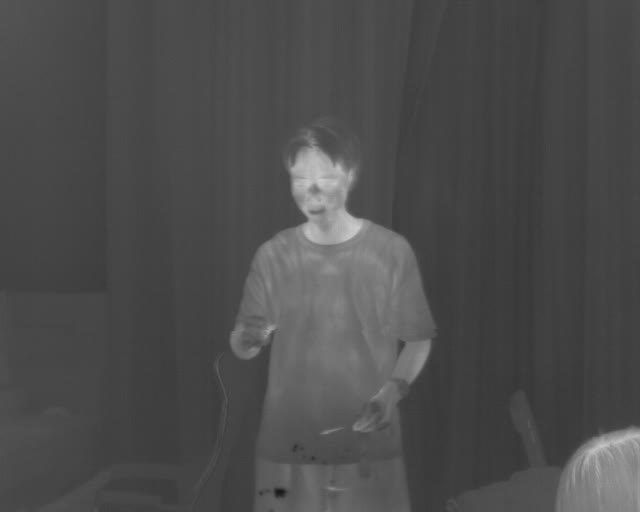face: (283, 119, 359, 229)
